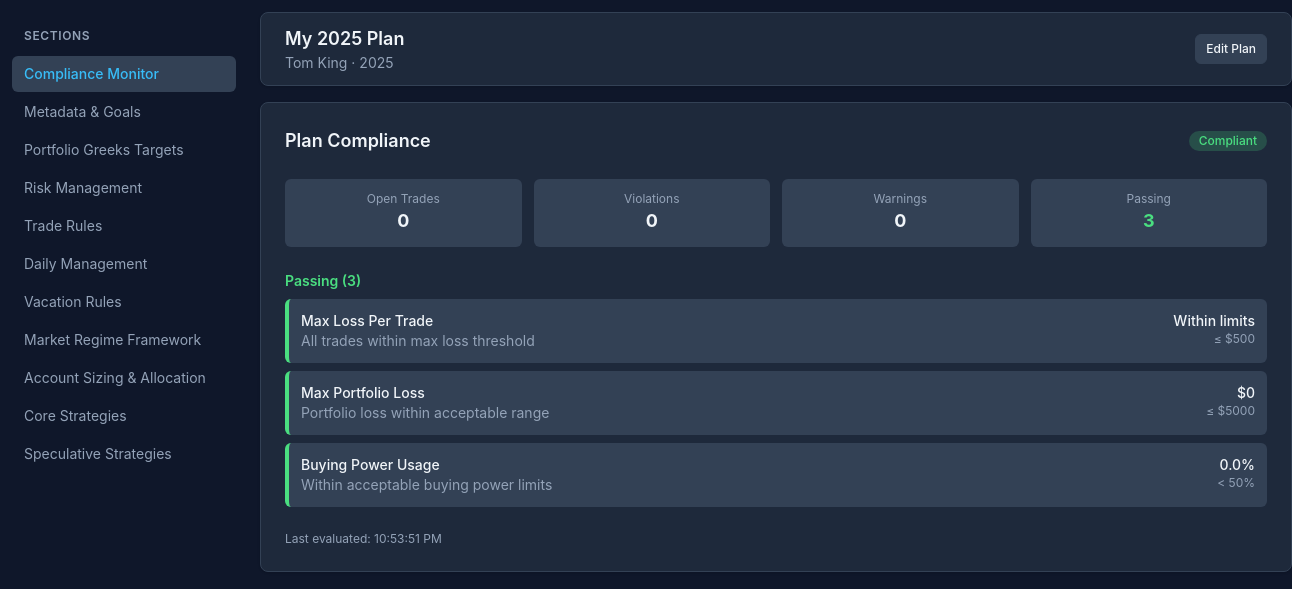
PlanViewer › displays goals section with numbered list
Step 1. Click the button "Metadata & Goals" → (124, 112), box top-left (12, 94), bottom-right (236, 130)
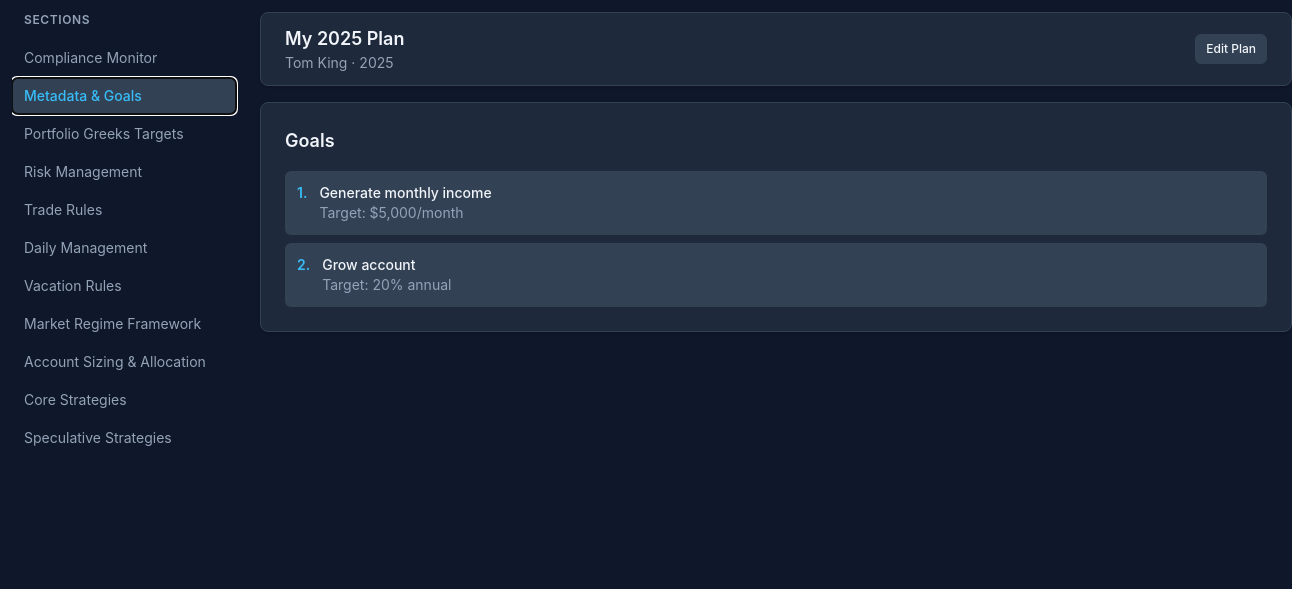
Result: the heading "Goals" is shown at top-left (285, 130), bottom-right (335, 151)
Result: the text "Generate monthly income" is shown at top-left (319, 183), bottom-right (492, 203)
Result: the text "Target: $5,000/month" is shown at top-left (319, 204), bottom-right (464, 221)
